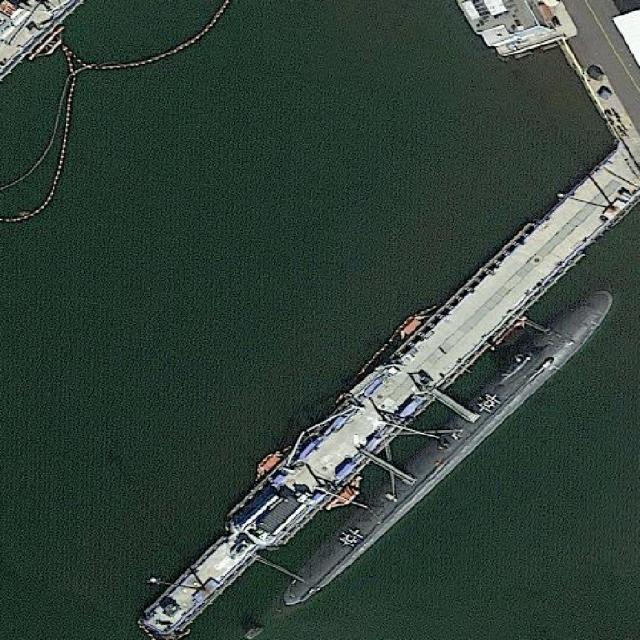Submarine: (268, 273, 626, 619)
